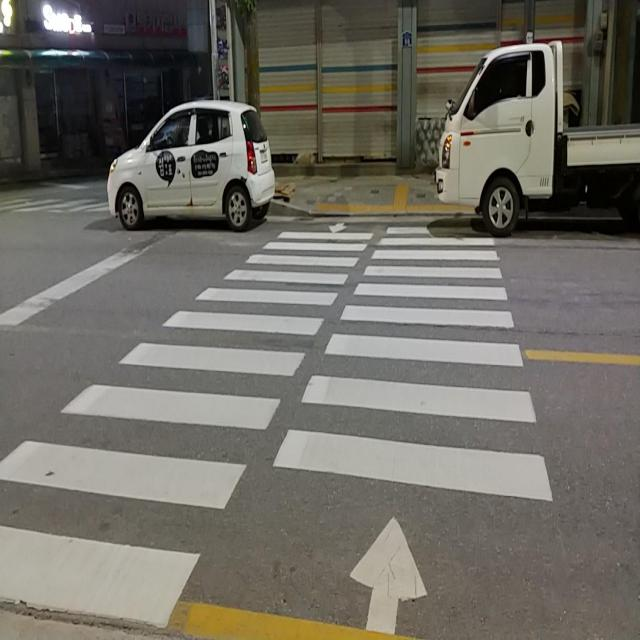횡단보도: (0, 216, 556, 640)
